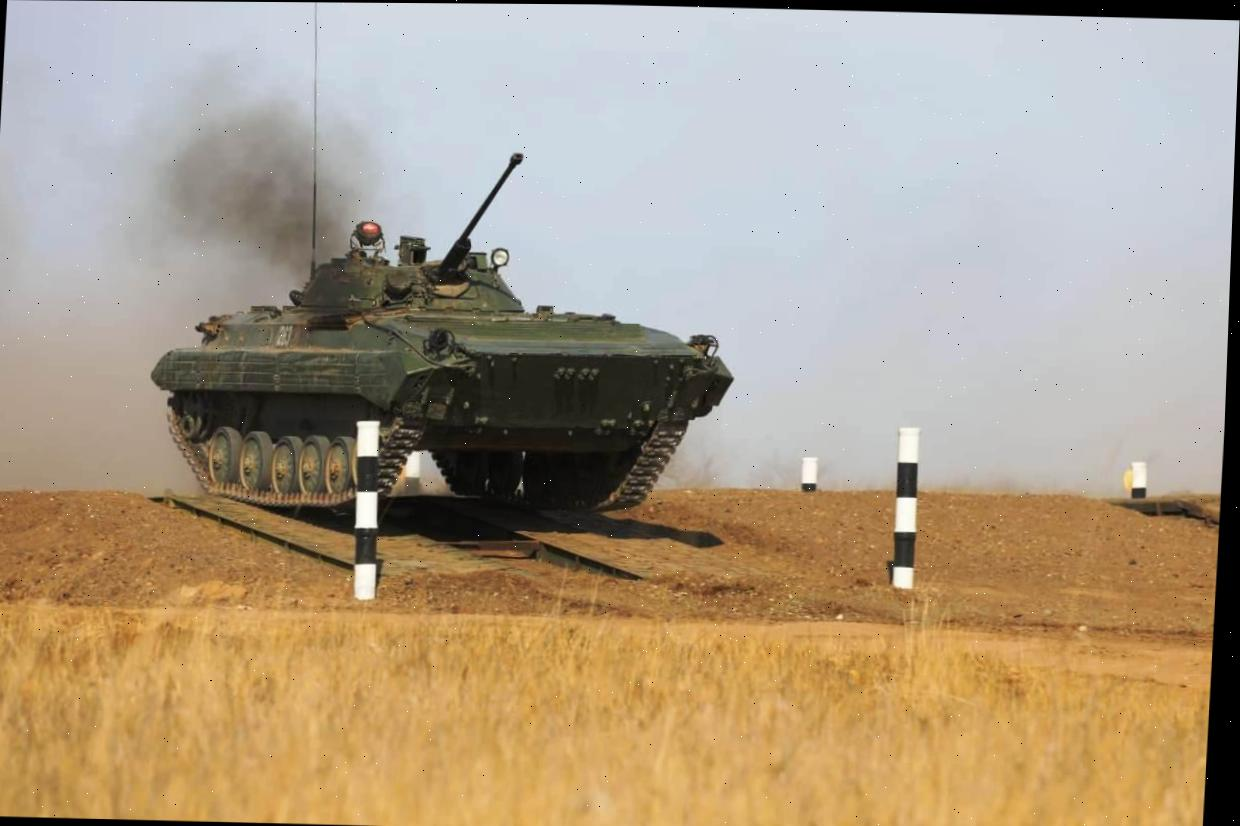tank: (141, 140, 745, 526)
